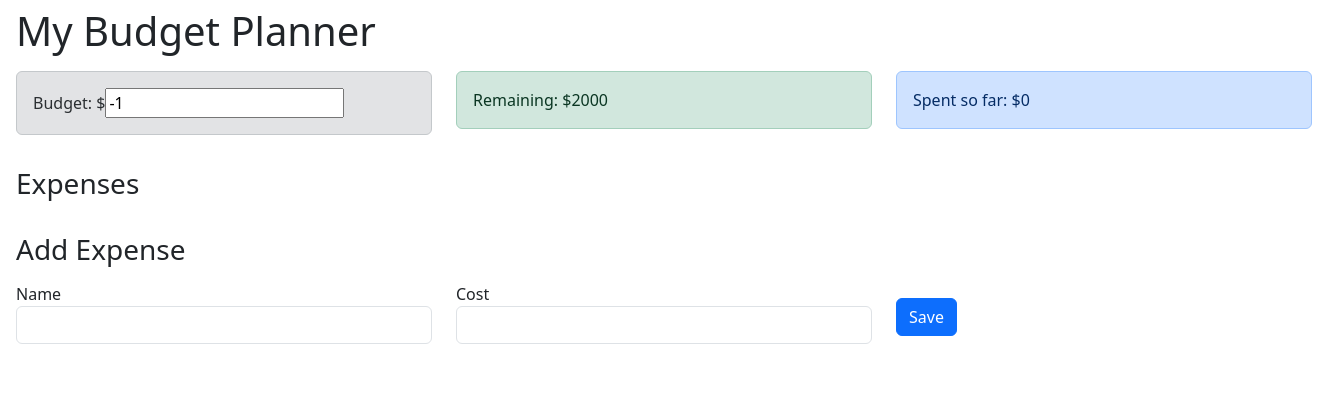
Test: delete expense works
The image size is (1329, 409).
Type "Food" into the field with test id "name-input" at (224, 325), box left=16, top=306, right=432, bottom=344
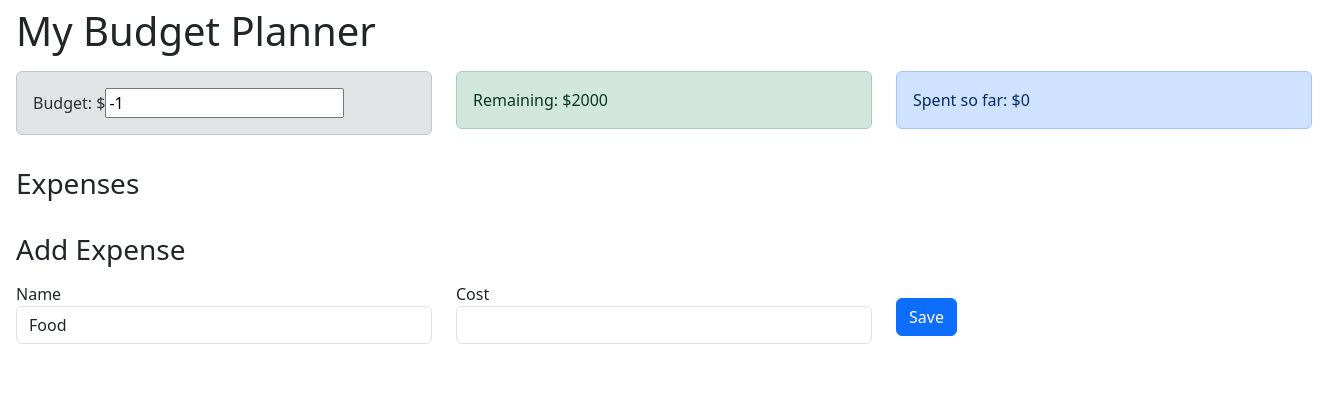
Type "300" into the field with test id "cost-input" at (664, 325), box left=456, top=306, right=872, bottom=344
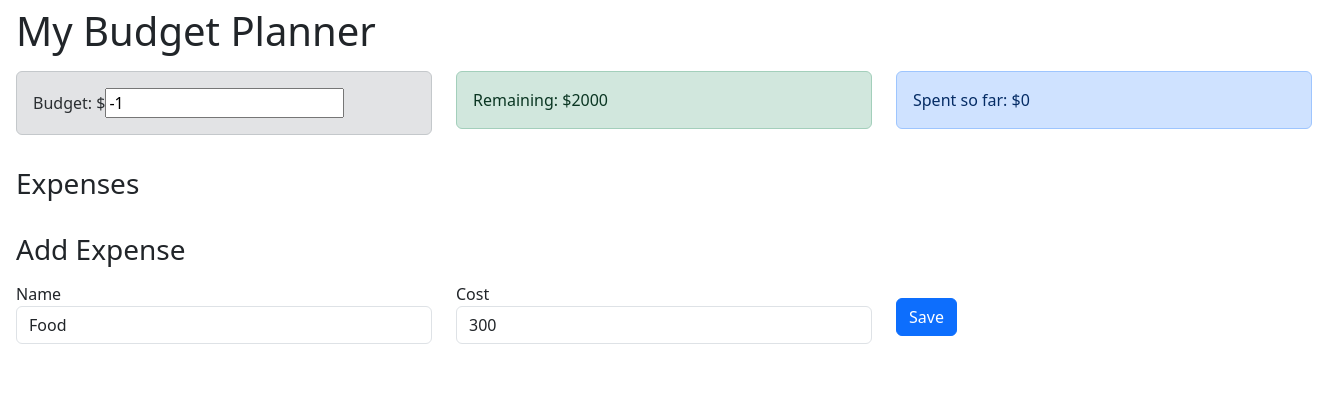
Click the button with test id "save-button" at (926, 317), box left=896, top=298, right=957, bottom=336
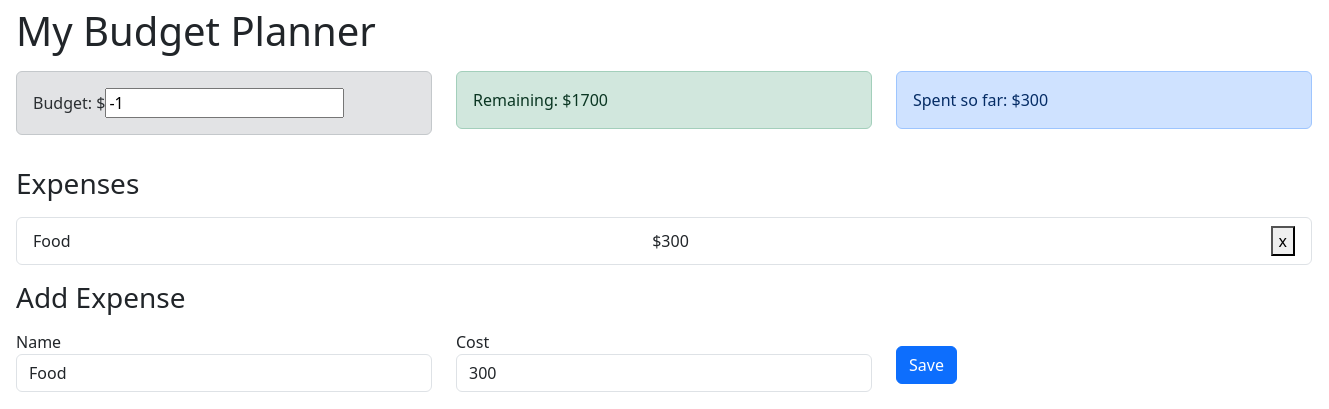
Click the button "x" at (1283, 241), box left=1270, top=226, right=1295, bottom=256
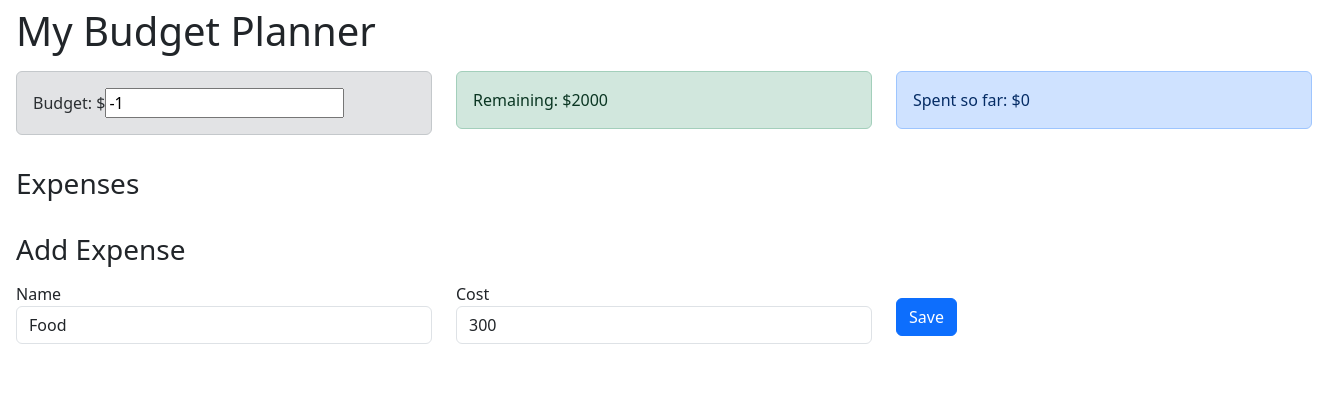
Expected: the text "$300" is gone
Expected: the text "Remaining: $2000" is shown, left=473, top=89, right=608, bottom=111
Expected: the text "Spent so far: $0" is shown, left=913, top=89, right=1030, bottom=111
